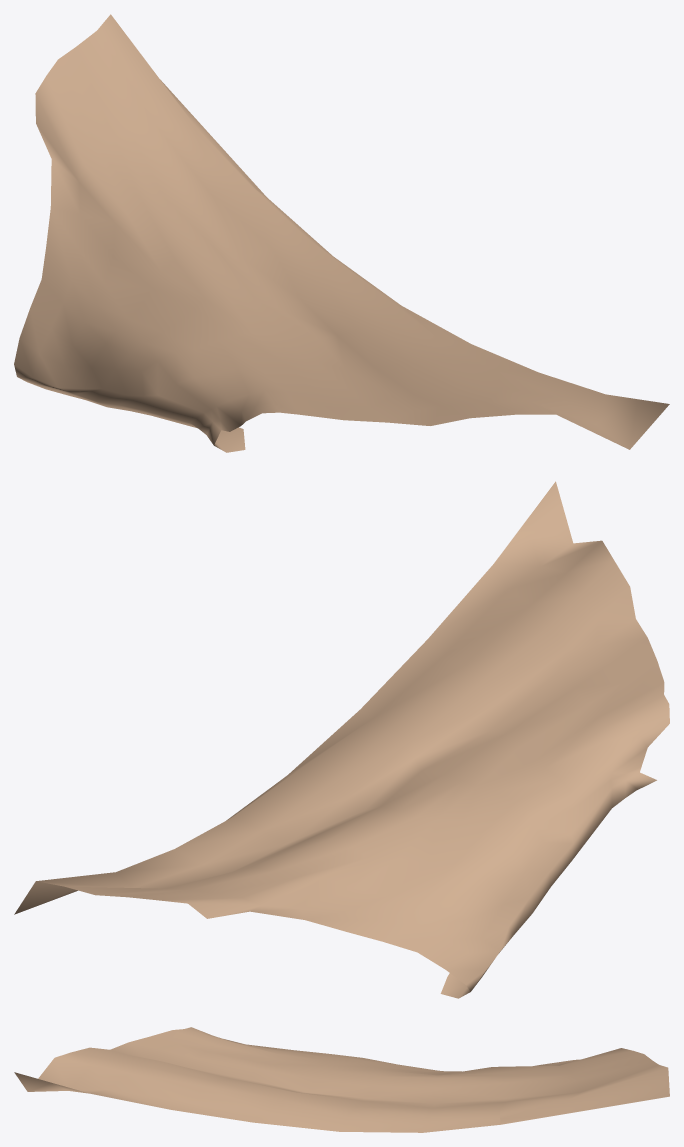
3 renders of one model, top to bottom at view 1: azimuth 30°, elevation 25°; view 2: azimuth 150°, elevation 25°; view 3: azimuth 270°, elevation 25°, orthographic. The views are drawn at different scales.
Visible parts, largest first — view 1: 右侧胸腰筋膜后层; view 2: 右侧胸腰筋膜后层; view 3: 右侧胸腰筋膜后层.
Part boxes in pixels (left/top/right/bottom): 右侧胸腰筋膜后层: left=14, top=14, right=669, bottom=452; 右侧胸腰筋膜后层: left=14, top=481, right=669, bottom=998; 右侧胸腰筋膜后层: left=14, top=1027, right=669, bottom=1132.
Bounding box in the file's own units: 0.1058 × 0.0646 × 0.3473.
